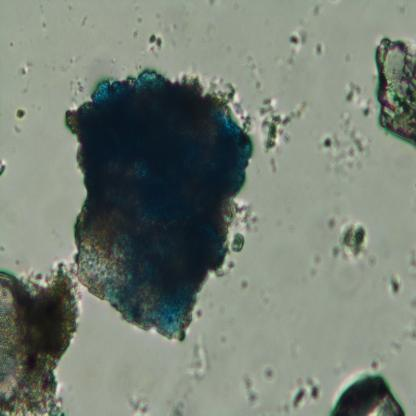Background material: (10, 266, 78, 414), (374, 34, 416, 148), (331, 365, 407, 415), (166, 329, 208, 416), (256, 97, 310, 157), (322, 111, 370, 175), (369, 319, 416, 370), (336, 219, 372, 263), (241, 49, 268, 94), (290, 373, 322, 410), (345, 79, 374, 117), (125, 387, 151, 416), (307, 249, 331, 280), (58, 74, 84, 100), (240, 201, 261, 232), (240, 375, 261, 406), (258, 358, 278, 388), (290, 23, 306, 58), (404, 240, 416, 283), (386, 269, 402, 298), (228, 229, 246, 253), (147, 32, 164, 55), (402, 294, 416, 317), (287, 342, 304, 360), (191, 305, 208, 322), (16, 58, 32, 76), (328, 207, 340, 230), (261, 284, 274, 304), (312, 42, 326, 59), (7, 121, 22, 136), (15, 107, 27, 122), (215, 335, 230, 347), (65, 57, 77, 70), (0, 158, 7, 179), (268, 159, 277, 175), (368, 252, 378, 266), (242, 278, 250, 291), (384, 252, 392, 260)
Diatom: (0, 268, 39, 403)
Fragment: (58, 64, 252, 346)
